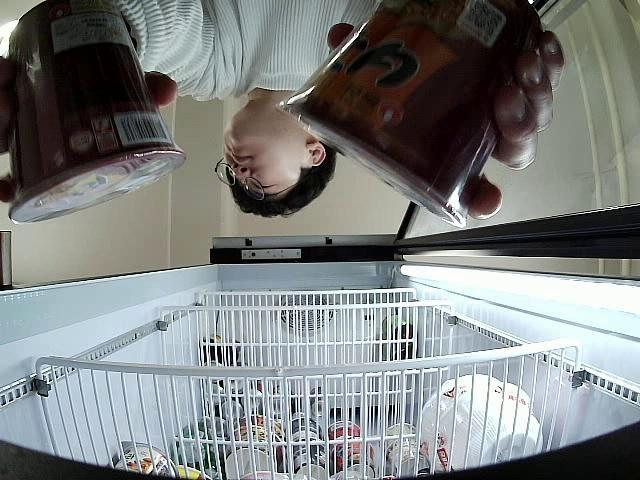06_nuguri_S: (274, 0, 544, 230), (9, 0, 188, 225)
